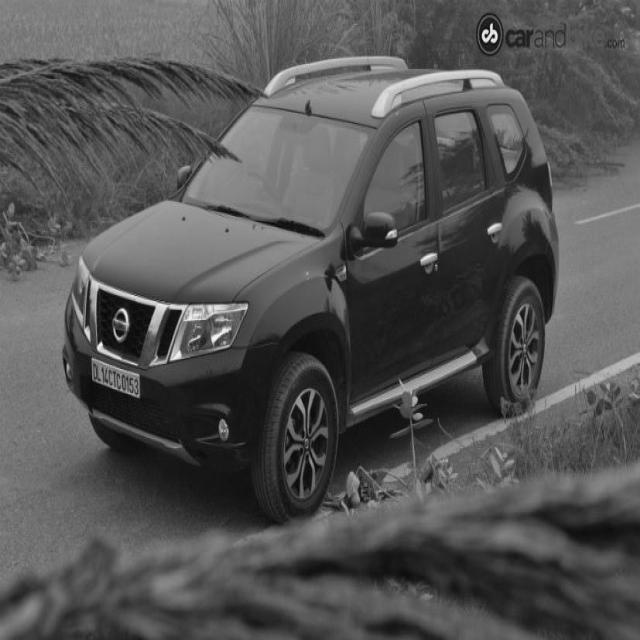car: (61, 51, 562, 482)
license-plate: (89, 352, 144, 402)
